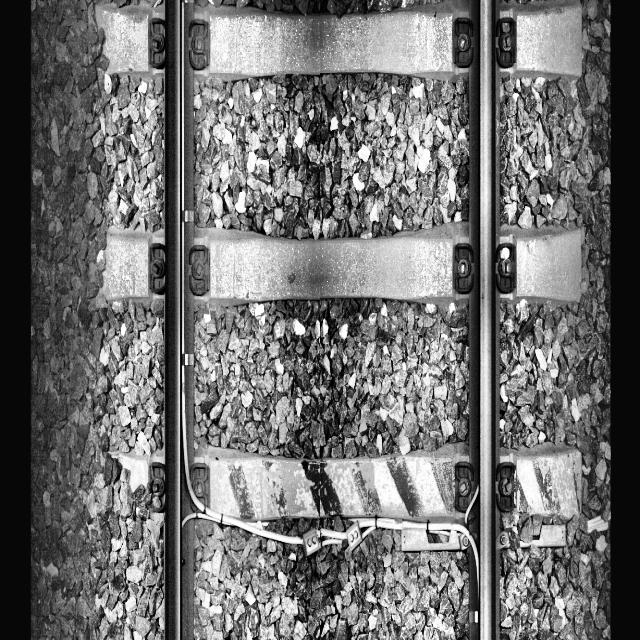Clips: (188, 18, 211, 70), (496, 16, 518, 69), (495, 243, 517, 294), (189, 244, 210, 296), (190, 461, 210, 515), (496, 459, 516, 513), (453, 242, 474, 293), (452, 18, 473, 68), (454, 461, 474, 511), (148, 461, 166, 513), (149, 242, 166, 293), (150, 17, 166, 67)
Sleepers: (104, 225, 584, 303), (98, 3, 581, 73), (108, 451, 581, 519)
